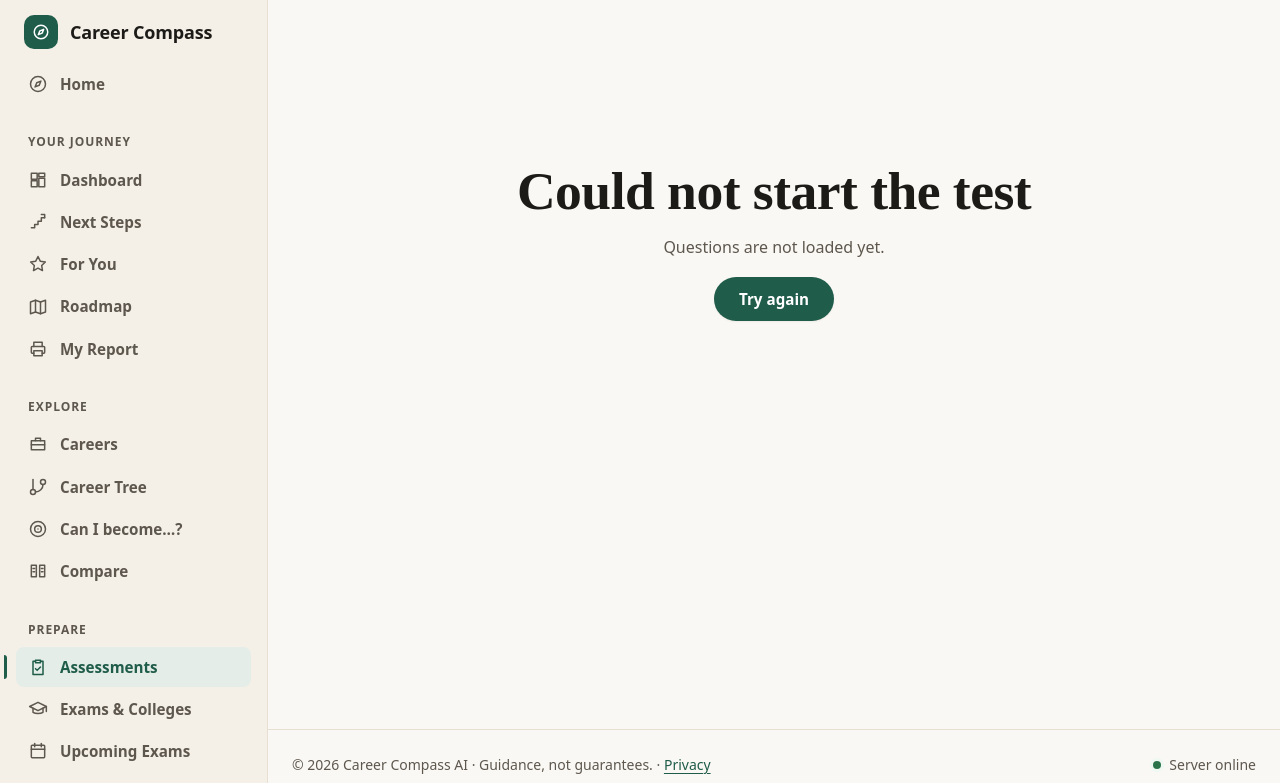
Test: Taking a test › shows a retry screen if the test cannot start
The image size is (1280, 783).
Check: the message "Could not start the test Questions are not loaded yet. Try again" is shown, box [517,161,1031,321]
What coordinates should you click on to do the following:
click the button "Try again"
I would click on:
 (774, 299)
Its box is [714,277,834,321].
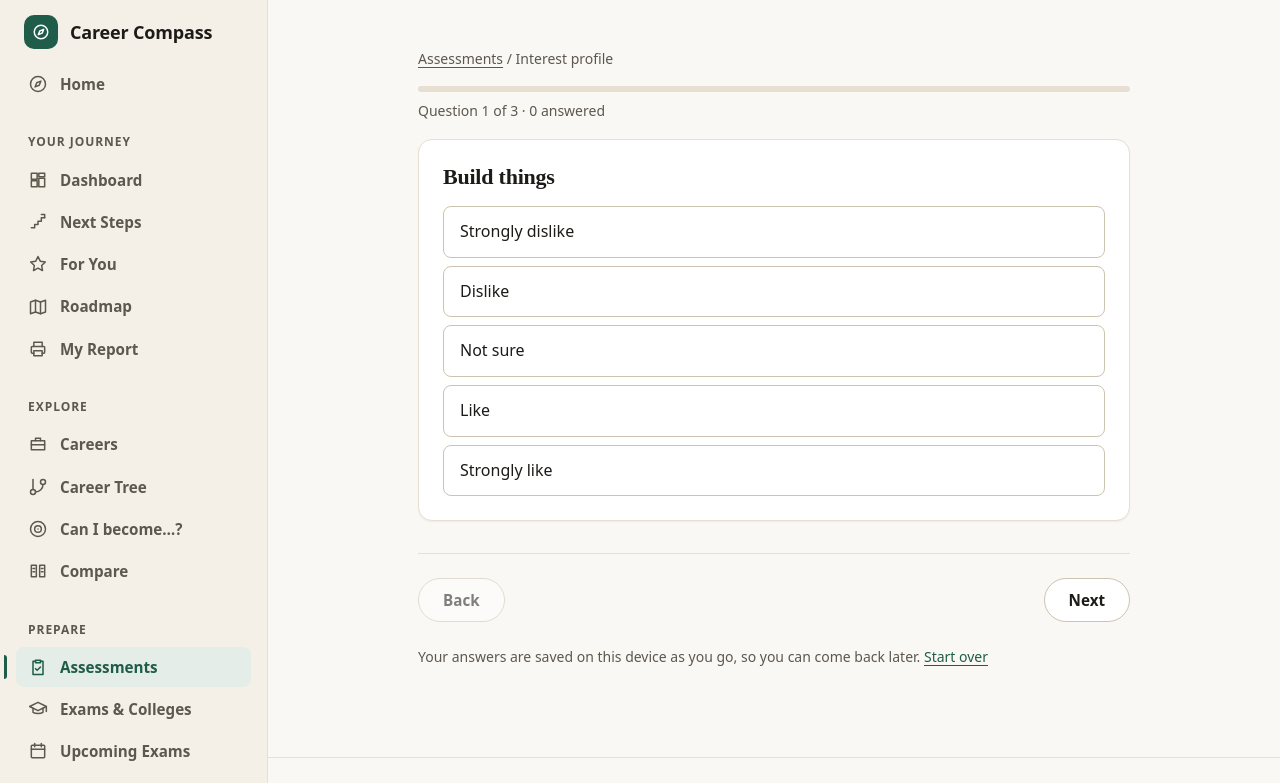
Check: the heading "Build things" is shown, box [443,164,555,189]
